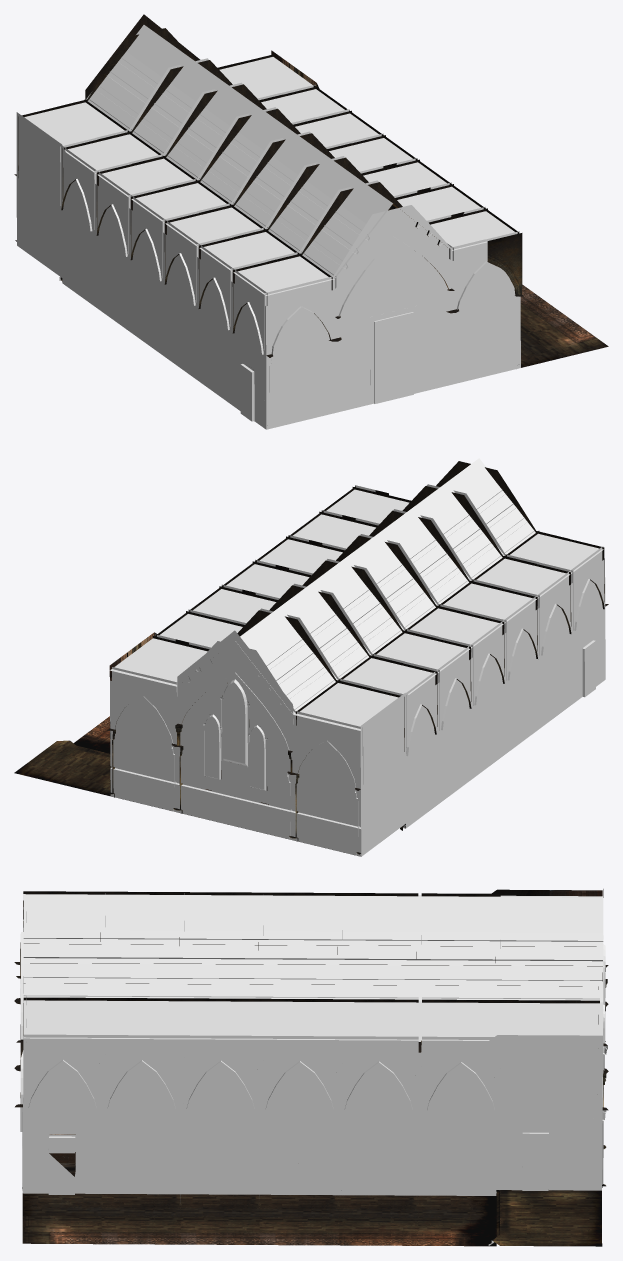
File: cathedral.glb
The picture shows the model from 3 angles, top to bottom: view 1: azimuth 30°, elevation 25°; view 2: azimuth 150°, elevation 25°; view 3: azimuth 270°, elevation 25°; orthographic projection. The views are drawn at different scales.
Visible parts, largest first — view 1: Material3 (×4), Material2; view 2: Material3 (×3), Material2; view 3: Material3 (×4), Material2.
Boxes of the visible parts, x1,y1,x2,y2 form: Material3 (×4): [16, 14, 608, 429]; Material2: [14, 28, 523, 357]; Material3 (×3): [14, 458, 605, 856]; Material2: [108, 461, 608, 854]; Material3 (×4): [20, 893, 607, 1246]; Material2: [14, 891, 608, 1191].
Bounding box in the file's own units: 13.03 × 7.2 × 16.26.
Materials: 12 (12 with a texture image).
